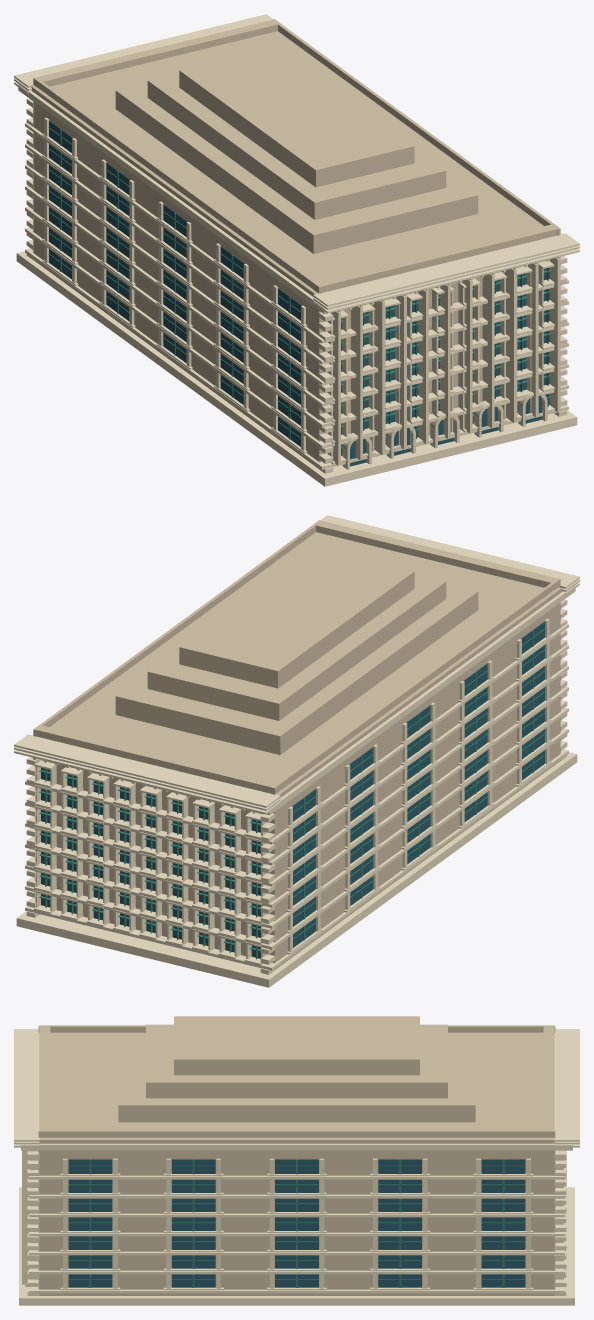
File: bank-communications-bund.glb
The picture shows the model from 3 angles, top to bottom: view 1: azimuth 30°, elevation 25°; view 2: azimuth 150°, elevation 25°; view 3: azimuth 270°, elevation 25°; orthographic projection. The views are drawn at different scales.
Parts seen in each view (by area): view 1: bank-communications-bund; view 2: bank-communications-bund; view 3: bank-communications-bund.
Part boxes in pixels (box(x1,y1,x2,y2)): bank-communications-bund: box(14, 14, 579, 486); bank-communications-bund: box(14, 515, 579, 987); bank-communications-bund: box(14, 1016, 579, 1305).
Size of the model in its own units: 26.75 by 23.8 by 57.56.
